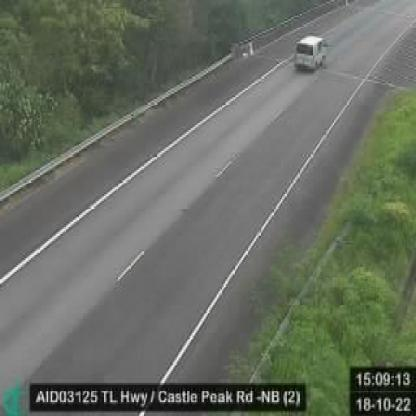Car: (294, 35, 327, 72)
